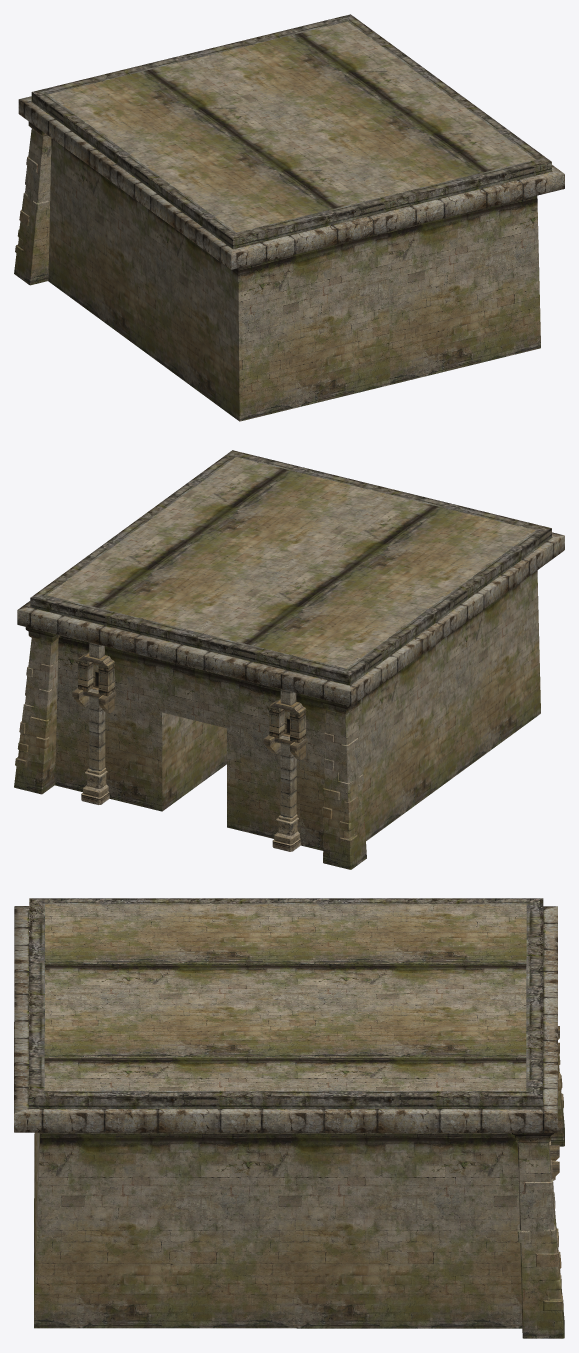
File: Tower2.fbx
3 views of the same model, one above another, from view 1: azimuth 30°, elevation 25°; view 2: azimuth 150°, elevation 25°; view 3: azimuth 270°, elevation 25° (orthographic). The views are drawn at different scales.
Parts seen in each view (by area): view 1: LV_AncientTower04_MergeObj_SM_SJW; view 2: LV_AncientTower04_MergeObj_SM_SJW; view 3: LV_AncientTower04_MergeObj_SM_SJW.
Boxes of the visible parts, <box> form: LV_AncientTower04_MergeObj_SM_SJW: <box>14,14,564,421</box>; LV_AncientTower04_MergeObj_SM_SJW: <box>14,450,564,869</box>; LV_AncientTower04_MergeObj_SM_SJW: <box>14,898,564,1338</box>.
Size of the model in its own units: 6.19 by 3.26 by 6.86.
